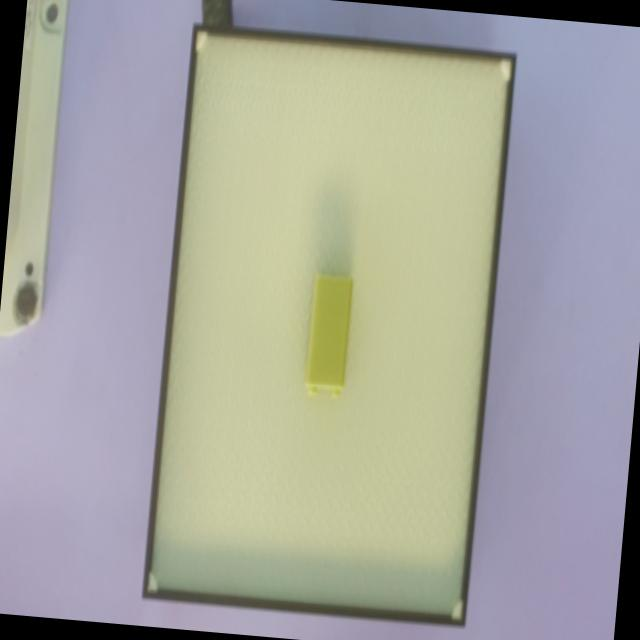Bateria: (306, 273, 353, 387)
Mesa: (141, 22, 516, 627)
Pestana: (330, 387, 340, 397), (307, 385, 317, 394)
